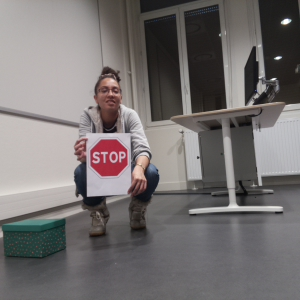small: (1, 217, 66, 259)
